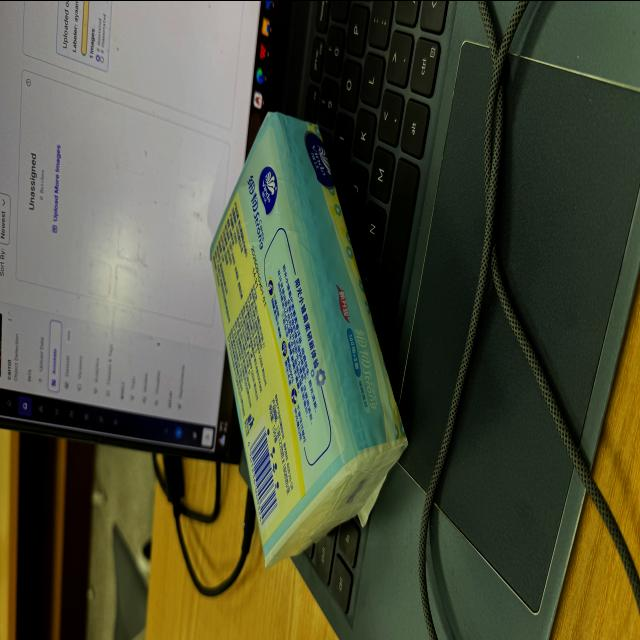tissue: (211, 112, 406, 564)
